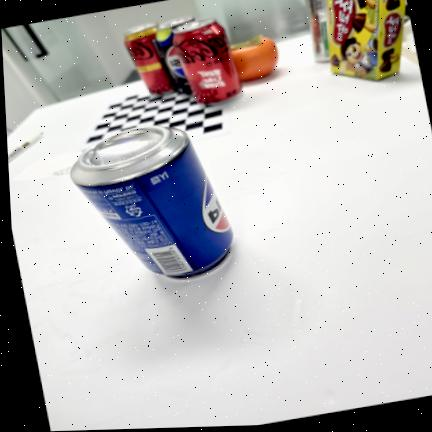can_coke_decaf: (124, 22, 174, 94)
can_coke_zero: (173, 18, 241, 104)
can_pepsi: (70, 125, 233, 278)
can_pepsi_zero: (156, 16, 194, 94)
